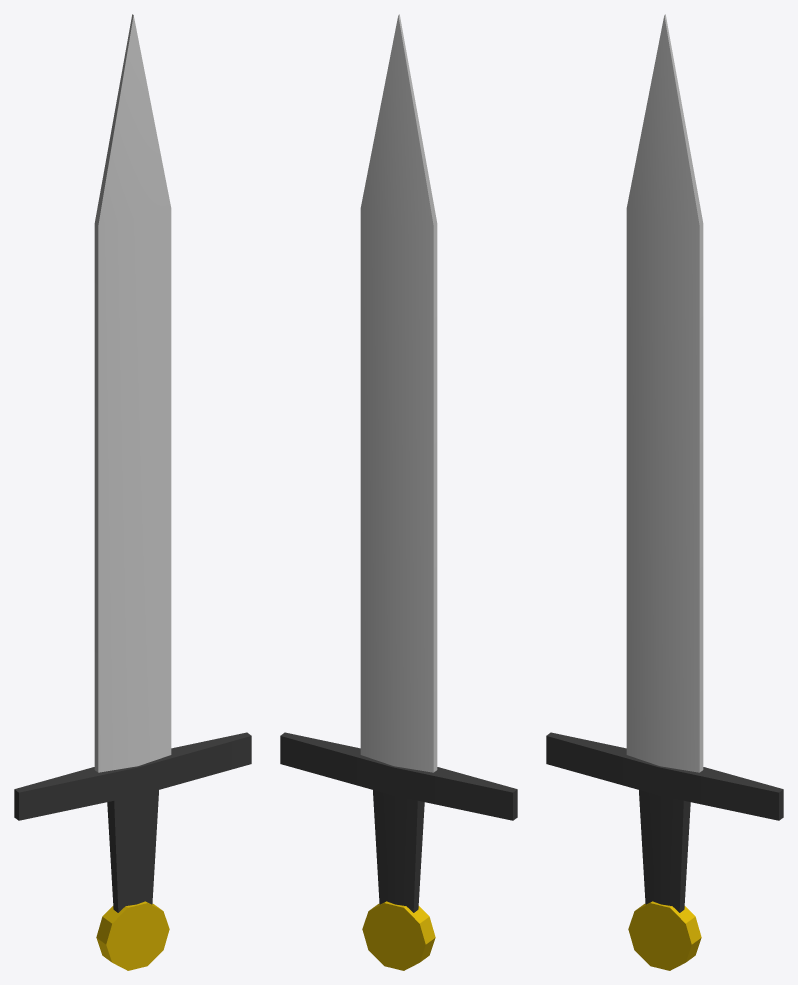
File: Sword.fbx
3 views of the same model, side by side, from view 1: azimuth 30°, elevation 25°; view 2: azimuth 150°, elevation 25°; view 3: azimuth 330°, elevation 25° (orthographic).
Visible parts, largest first — view 1: Sword; view 2: Sword; view 3: Sword.
Part boxes in pixels (x1,y1,x2,y2): Sword: [14, 14, 251, 970]; Sword: [280, 14, 517, 970]; Sword: [546, 14, 783, 970].
Size of the model in its own units: 2.38 by 9.29 by 0.2266.
